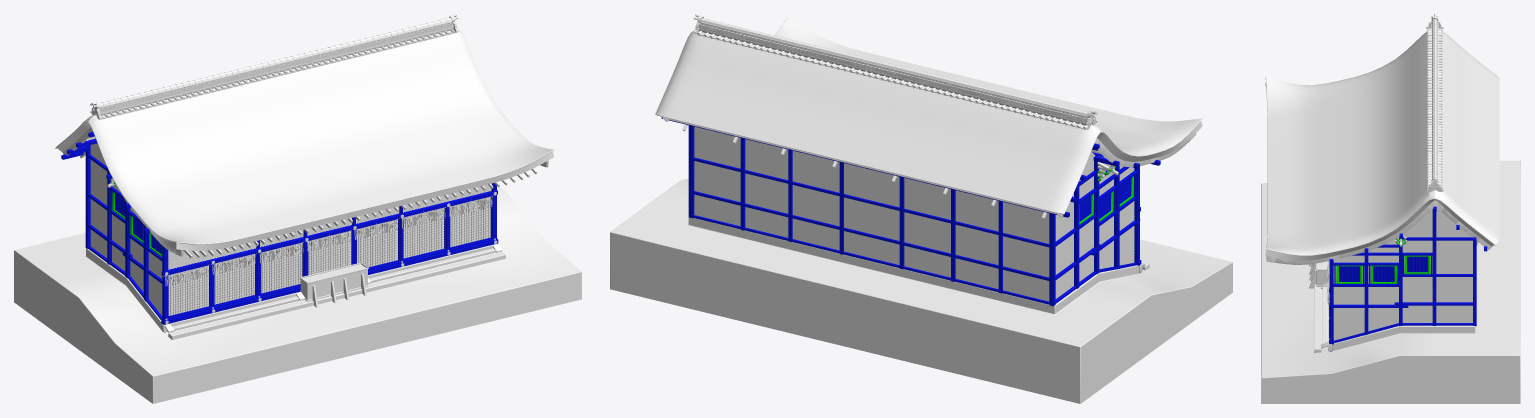
The model's file is Shrine.fbx.
3 views of the same model, side by side, from view 1: azimuth 30°, elevation 25°; view 2: azimuth 150°, elevation 25°; view 3: azimuth 270°, elevation 25° (orthographic). The views are drawn at different scales.
Parts seen in each view (by area): view 1: S_Heiankyo_Building_UjigamiFoundation.001; view 2: S_Heiankyo_Building_UjigamiFoundation.001; view 3: S_Heiankyo_Building_UjigamiFoundation.001.
Boxes of the visible parts, x1,y1,x2,y2 form: S_Heiankyo_Building_UjigamiFoundation.001: (14, 14, 581, 403); S_Heiankyo_Building_UjigamiFoundation.001: (610, 14, 1232, 403); S_Heiankyo_Building_UjigamiFoundation.001: (1261, 14, 1520, 403).
Size of the model in its own units: 2098 by 1052 by 1178.
